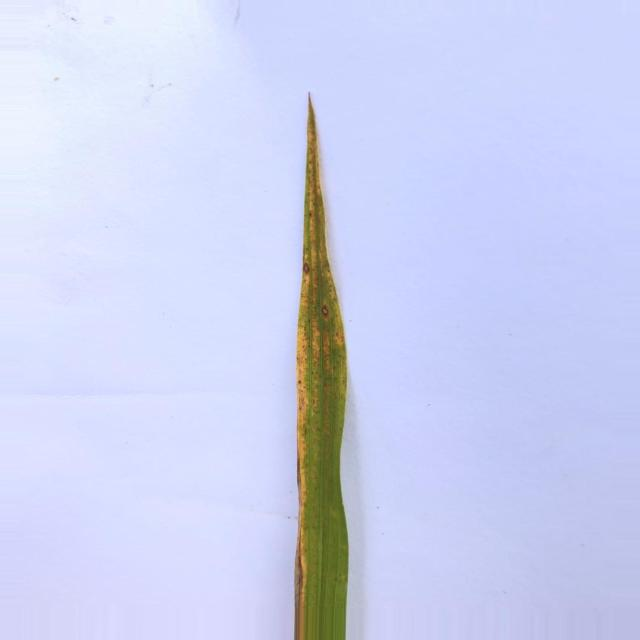Rice Tungro: (305, 94, 325, 224), (297, 329, 305, 543), (325, 295, 347, 356), (307, 316, 326, 374), (294, 546, 305, 616), (301, 264, 309, 309)
